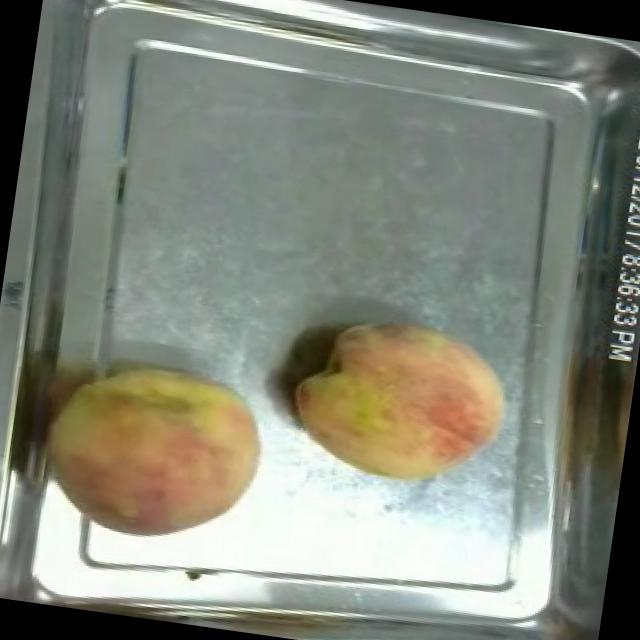Fruit: (32, 338, 283, 564), (276, 297, 527, 507)
